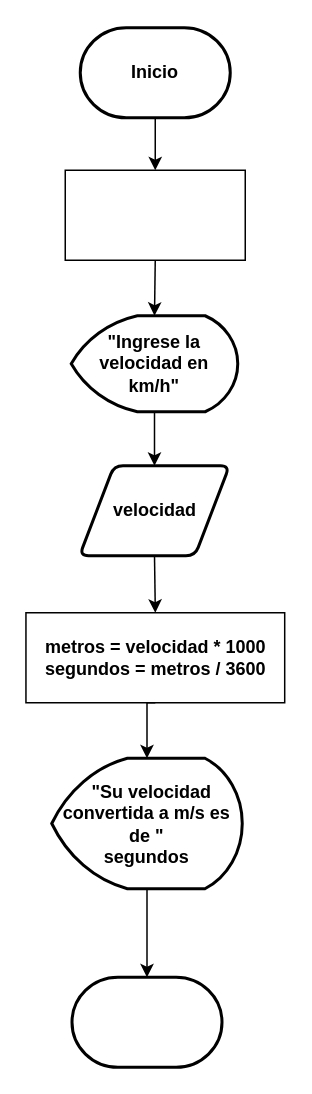
This 312x1094 diagram has some shape labels left out. Here are the shapes that lost their labels. From the top down, the box of each, then its label:
(64, 169, 245, 260): metros = 0 segundos = 0
(70, 975, 223, 1068): Fin
